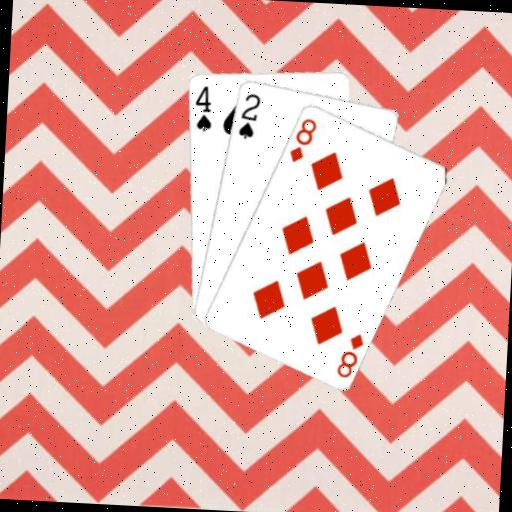2S: (235, 89, 263, 141)
4S: (190, 82, 215, 133)
8D: (286, 114, 319, 166), (333, 329, 366, 380)
